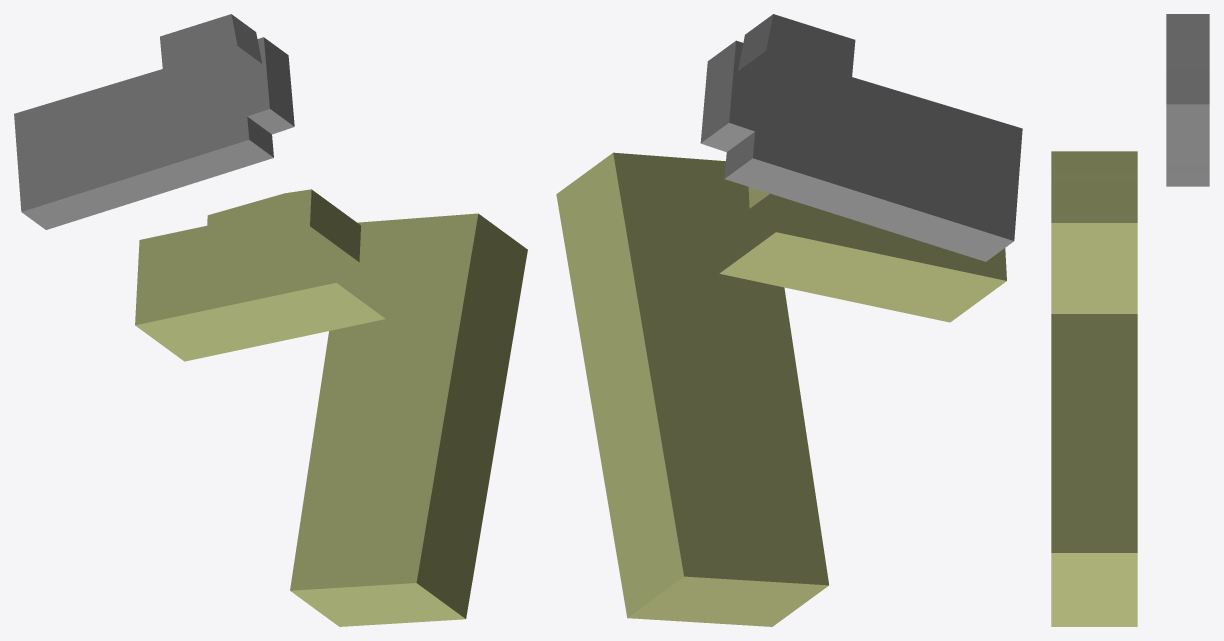
The picture shows the model from 3 angles, left to right: view 1: azimuth 30°, elevation 25°; view 2: azimuth 150°, elevation 25°; view 3: azimuth 270°, elevation 25°; orthographic projection. The views are drawn at different scales.
Visible parts, largest first — view 1: 0_3_0_2_1_2_1_3; view 2: 0_3_0_2_1_2_1_3; view 3: 0_3_0_2_1_2_1_3.
Boxes of the visible parts, bbox=[...] form: 0_3_0_2_1_2_1_3: bbox=[14, 14, 527, 626]; 0_3_0_2_1_2_1_3: bbox=[556, 14, 1022, 626]; 0_3_0_2_1_2_1_3: bbox=[1051, 14, 1209, 626].
Bounding box in the file's own units: 29.58 × 38.34 × 11.
